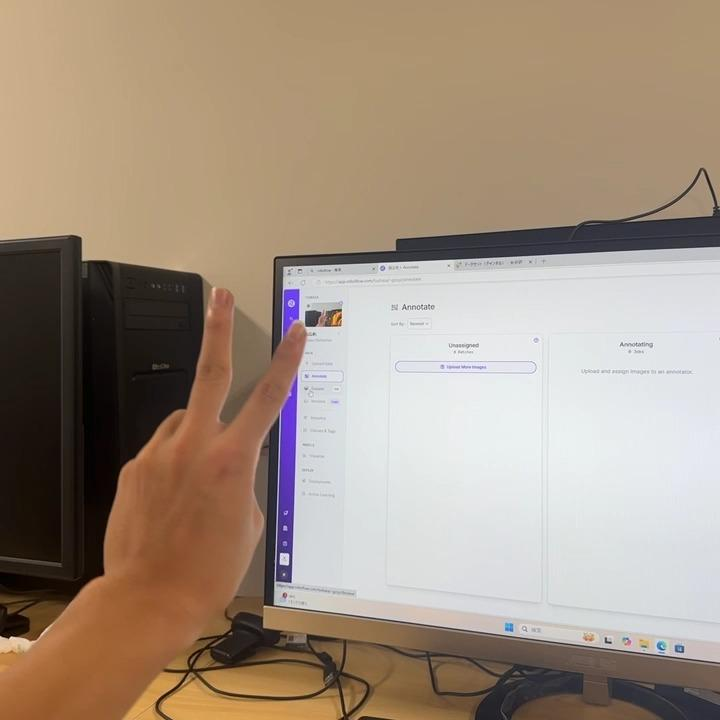without_gloves: (18, 221, 412, 671)
